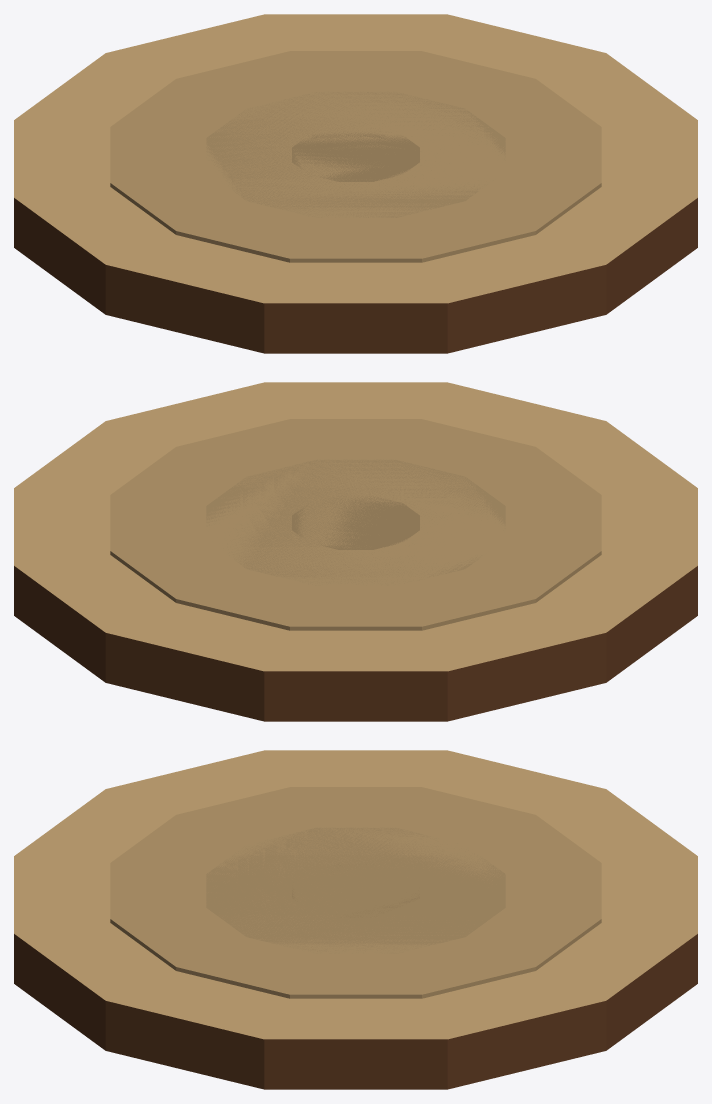
The model's file is PathRound.glb.
3 views of the same model, one above another, from view 1: azimuth 30°, elevation 25°; view 2: azimuth 150°, elevation 25°; view 3: azimuth 270°, elevation 25° (orthographic).
Parts seen in each view (by area): view 1: Body; view 2: Body; view 3: Body.
Part boxes in pixels (x1=…): Body: x1=14, y1=14, x2=697, y2=353; Body: x1=14, y1=382, x2=697, y2=721; Body: x1=14, y1=750, x2=697, y2=1089.
Size of the model in its own units: 3.09 by 0.27 by 3.09.
